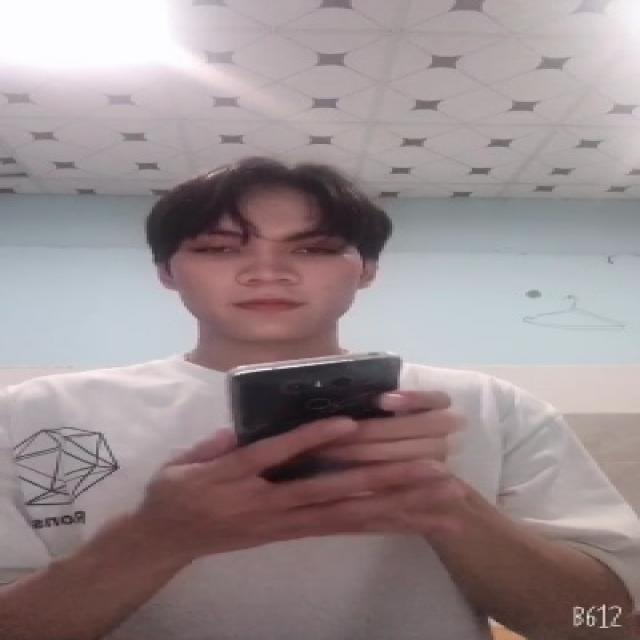Phone: (228, 347, 410, 488)
